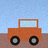vehicle: (8, 19, 41, 45)
